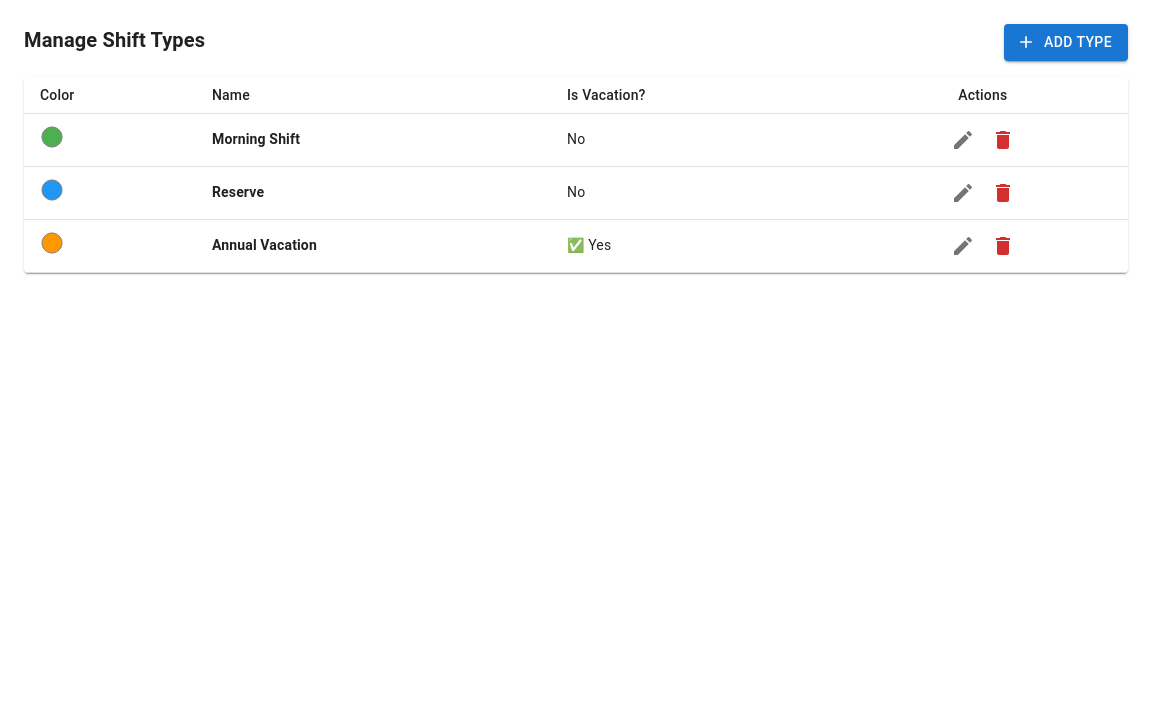
it: ShiftTypesTab: vacation types and time slots › won't mark a shift type as vacation while a time slot links it, and names the slot
Click the button named "Edit shift type Morning Shift" at [963, 140], box [943, 120, 983, 160]
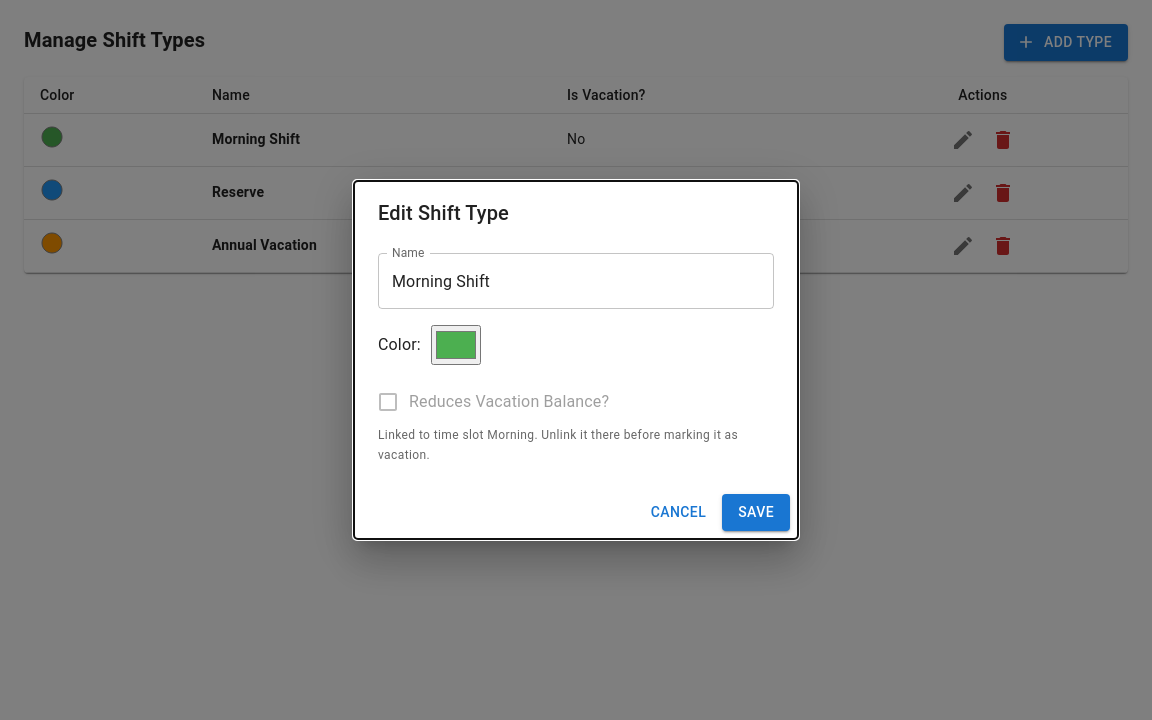
Result: the checkbox labelled "Reduces Vacation Balance?" is disabled at [376, 390, 609, 414]
Result: the text "Linked to time slot Morning. Unlink it there before marking it as vacation." is shown at [378, 426, 774, 466]
